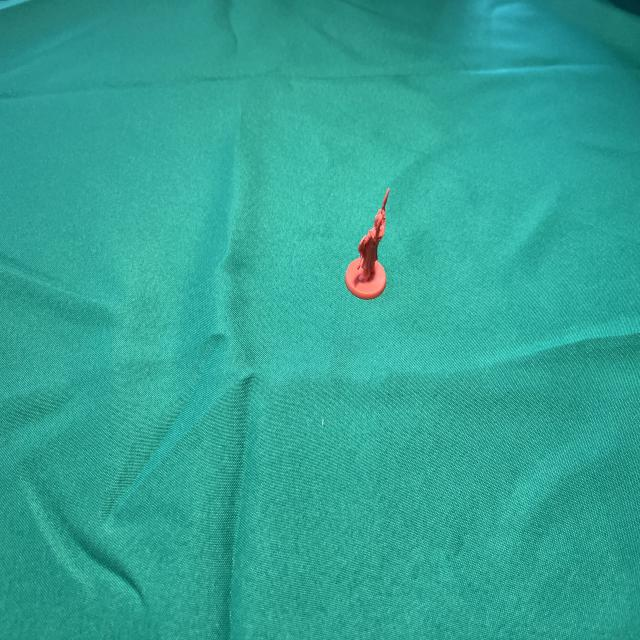amon_follower: (345, 188, 389, 300)
